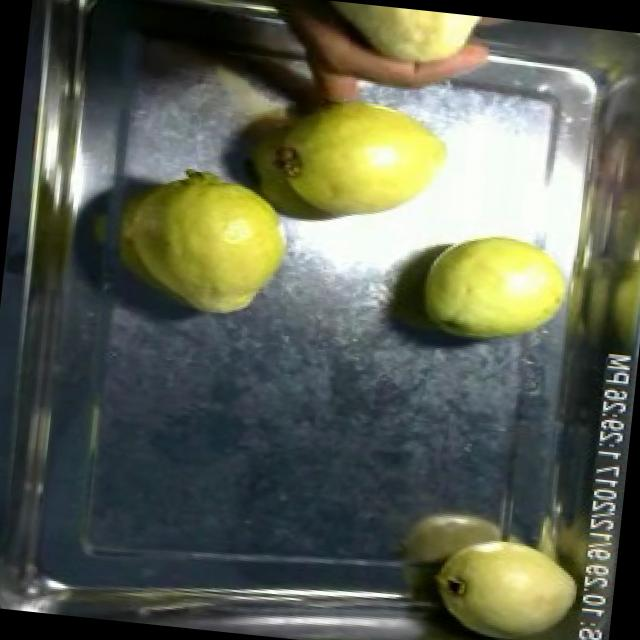Fruit: (229, 74, 468, 238), (102, 150, 306, 329), (406, 210, 586, 352), (273, 0, 518, 102), (416, 512, 597, 640)
